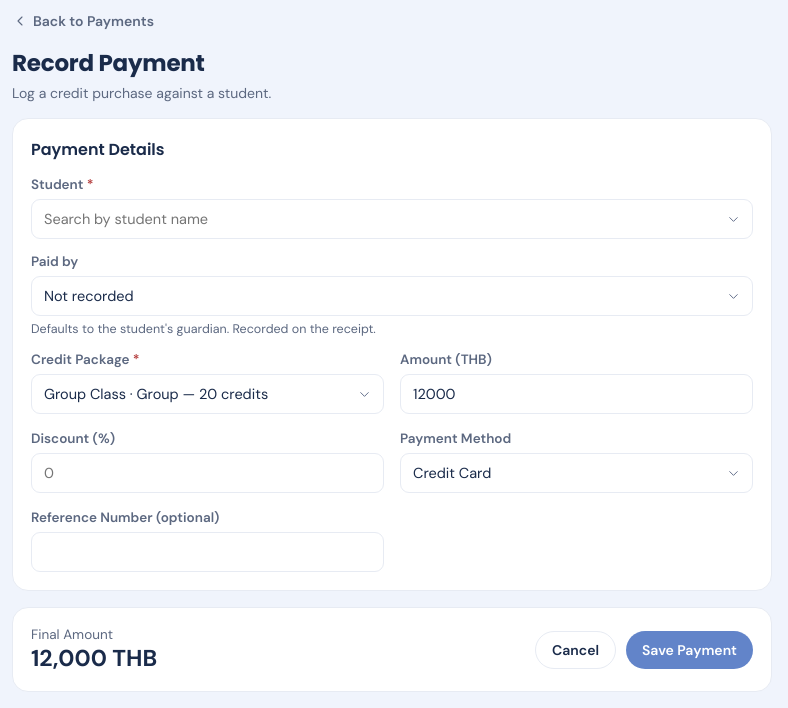
Test: picking a guardian › names their only child, and reprices for that child's class
Select "Nid" in the dropdown labelled "Paid by" at {"x": 392, "y": 296}, box x1=31 y1=276 x2=753 y2=316
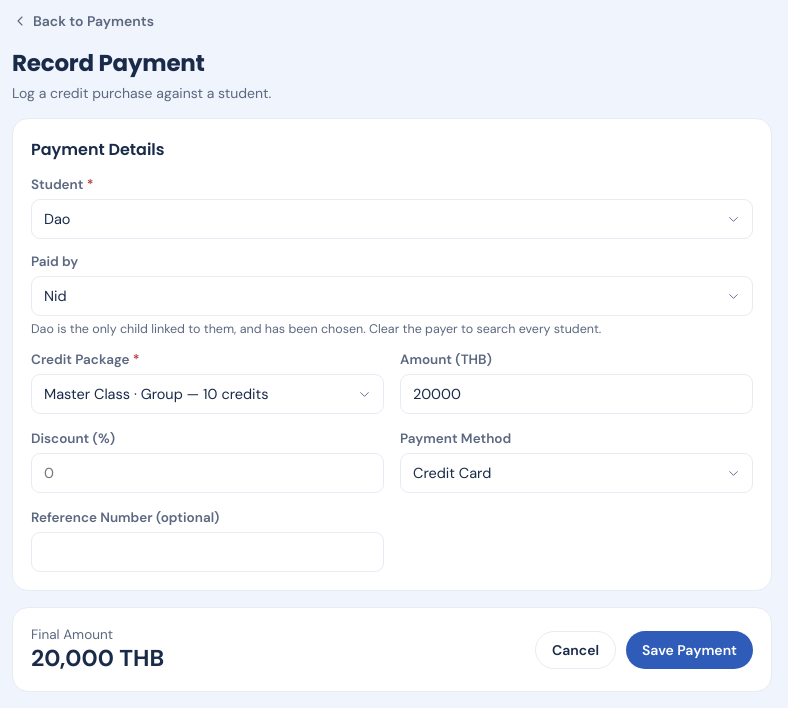
Check: the dropdown labelled "Student *" holds "Dao", box x1=31 y1=199 x2=753 y2=239
Check: the number field labelled "Amount (THB)" holds "20000", box x1=400 y1=374 x2=753 y2=414
